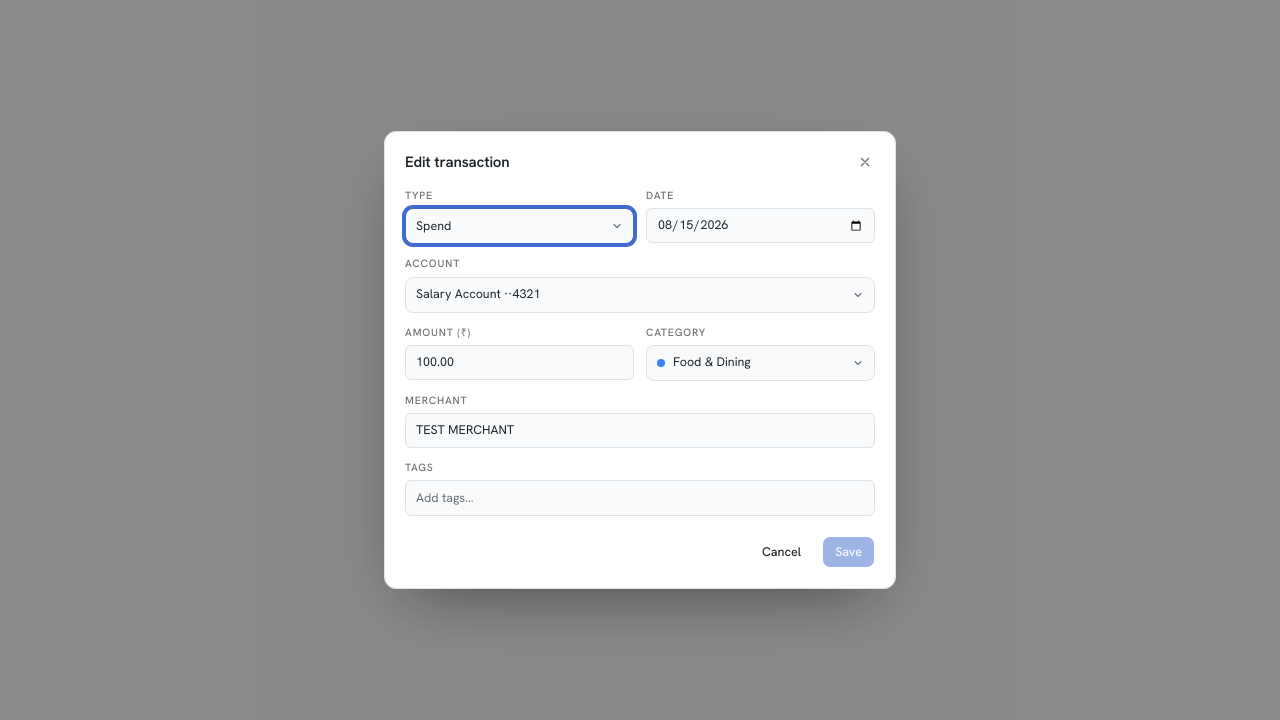
Test: TransactionDialog (app/expenses/transaction-dialog.tsx) › displays server error inline on 409 conflict
// Edit merchant to trigger save
Step 1. Replace the text in the field showing "TEST MERCHANT" with "Duplicate Merchant" → coordinates (640, 430), box [405,413,875,448]
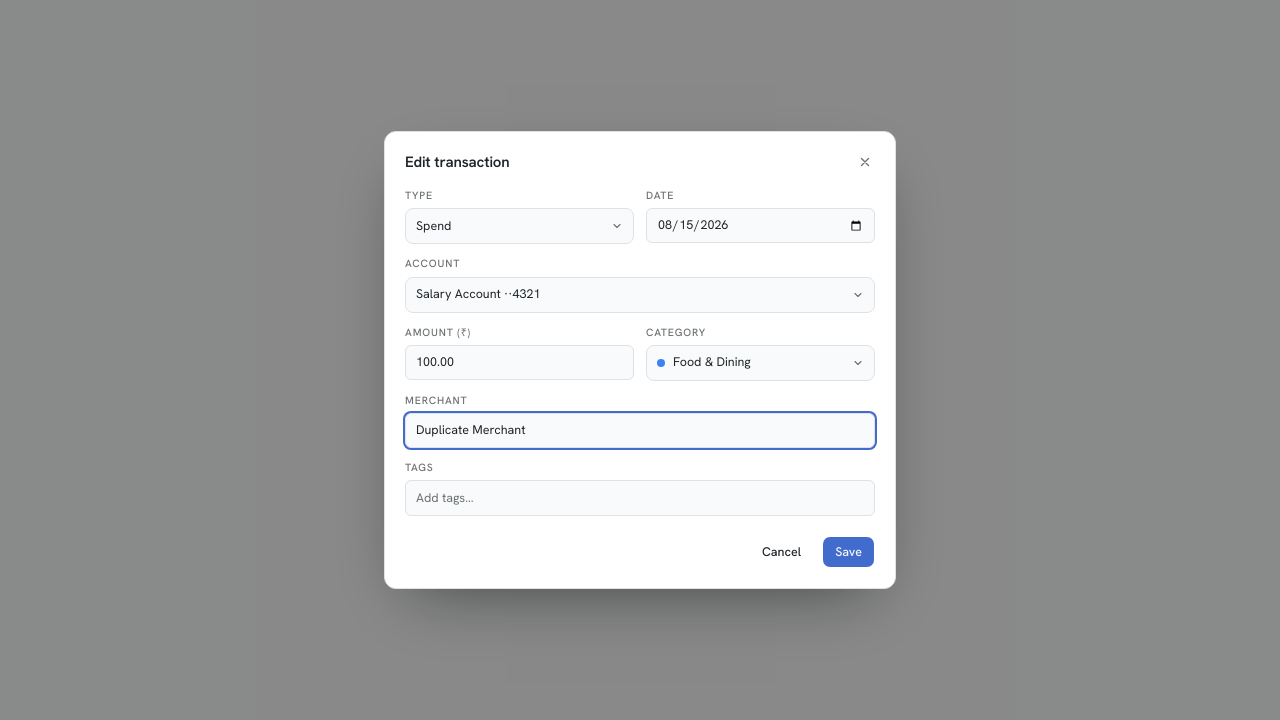
Step 2. Click the button "Save" → coordinates (849, 552), box [822,536,875,568]
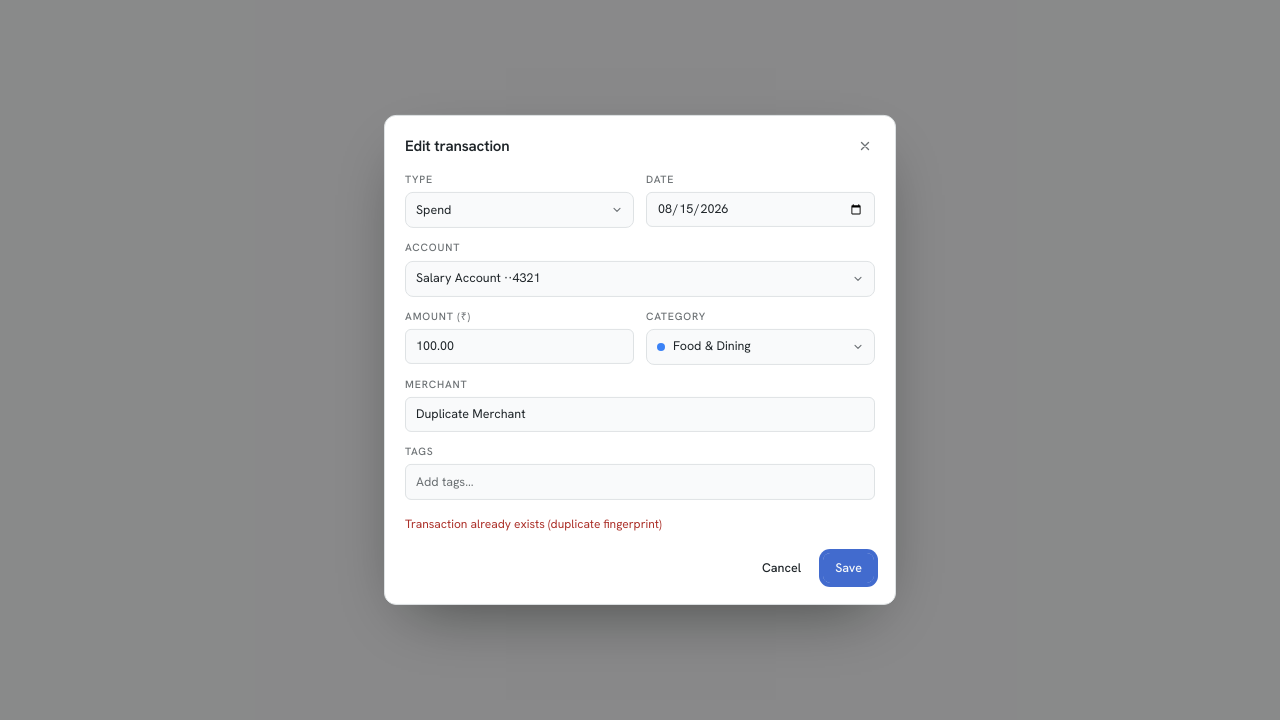
Expected: the text "Transaction already exists (duplicate fingerprint)" is shown, [405,516,662,532]
